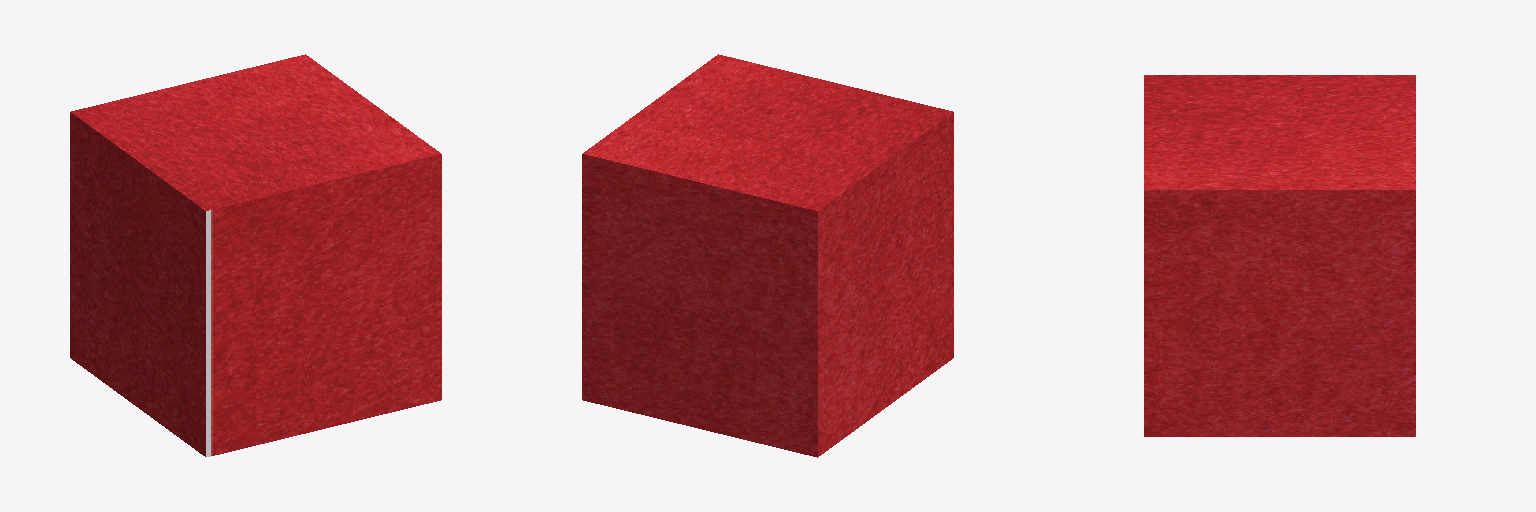
3 views of the same model, side by side, from view 1: azimuth 30°, elevation 25°; view 2: azimuth 150°, elevation 25°; view 3: azimuth 270°, elevation 25° (orthographic).
Visible parts, largest first — view 1: 立方体; view 2: 立方体; view 3: 立方体.
Part boxes in pixels (bbox=[...]): 立方体: bbox=[70, 54, 441, 457]; 立方体: bbox=[582, 54, 953, 457]; 立方体: bbox=[1144, 75, 1415, 436].
Bounding box in the file's own units: 2 × 2 × 2.
Materials: 1 (1 with a texture image).